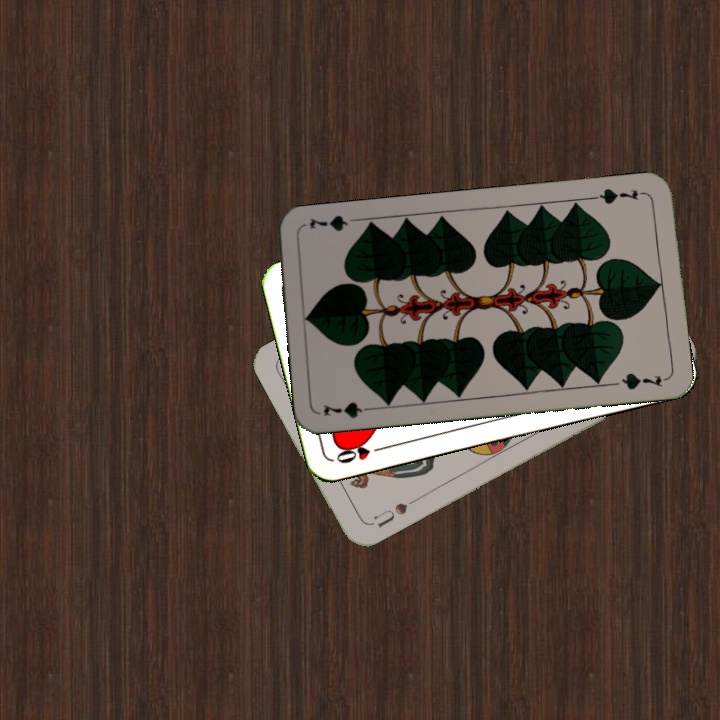G7: (319, 397, 378, 421), (589, 184, 649, 207)
HO: (332, 439, 389, 466)
SU: (364, 495, 419, 530)
